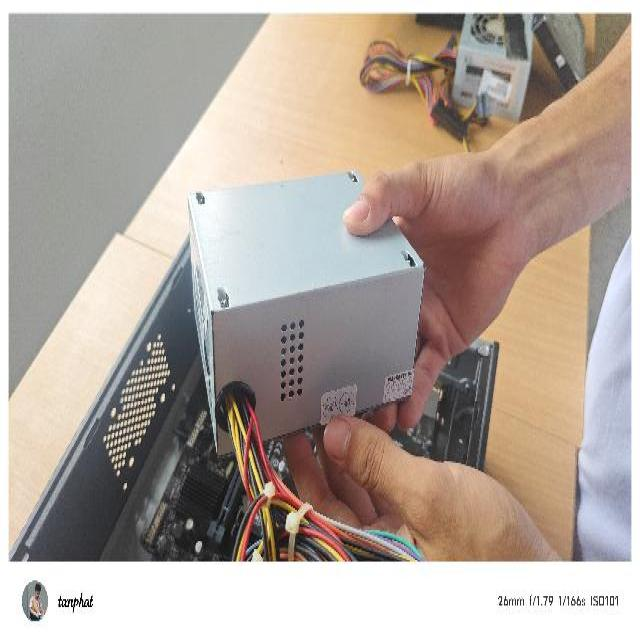PSU: (180, 168, 427, 456)
